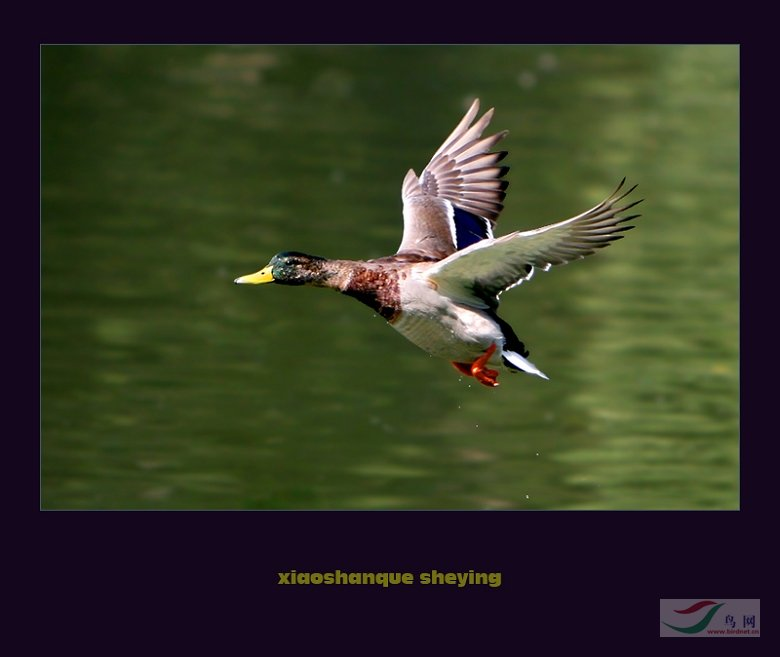bird: (231, 97, 641, 389)
